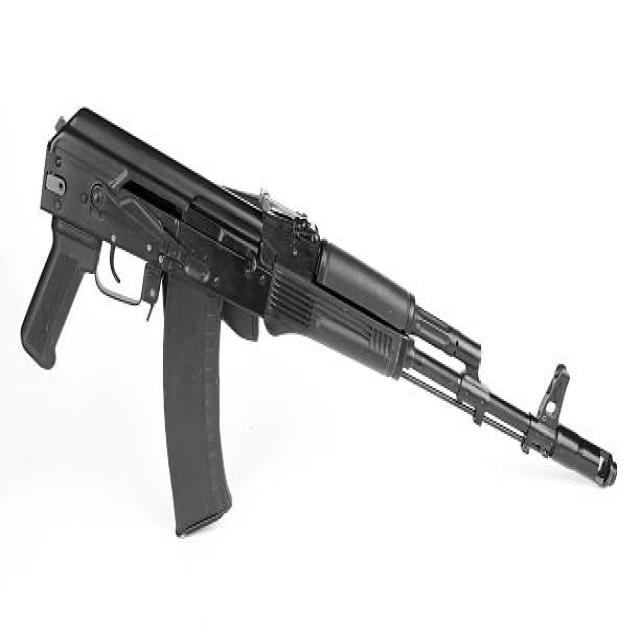rifle: (21, 100, 629, 552)
